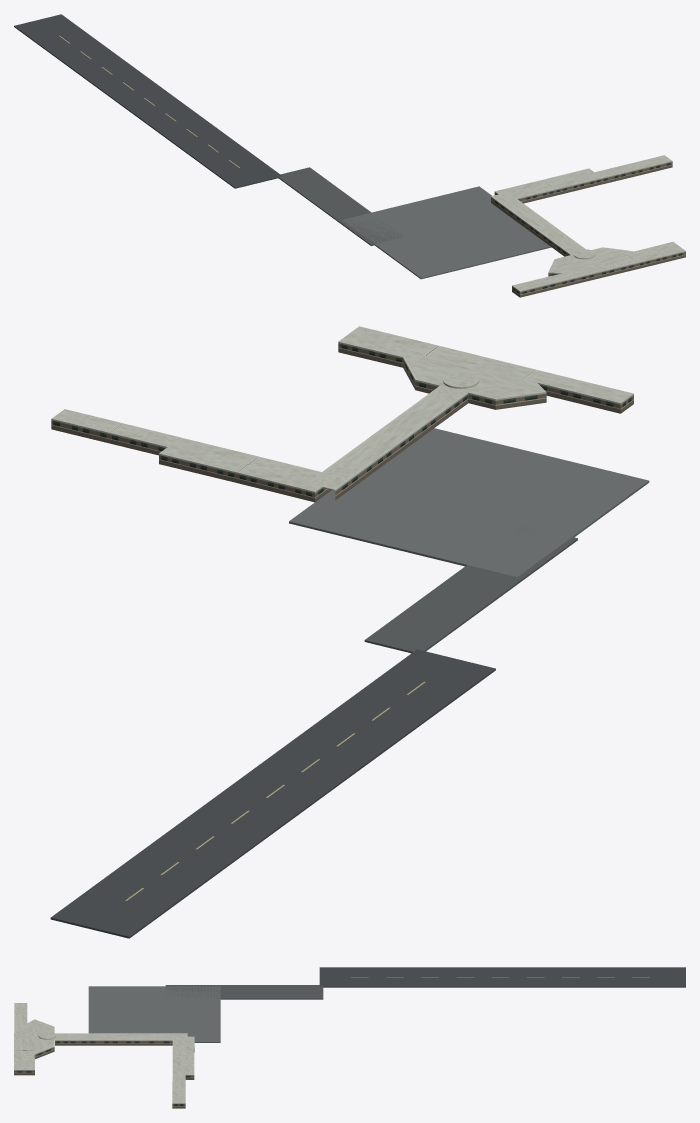
The model's file is dc9-memphis-legacy-departure.glb.
3 renders of one model, top to bottom at view 1: azimuth 30°, elevation 25°; view 2: azimuth 150°, elevation 25°; view 3: azimuth 270°, elevation 25°, orthographic. The views are drawn at different scales.
Parts seen in each view (by area): view 1: KMEM_RUNWAY_SURFACE, KMEM_RAMP, OBJ8_CONCOURSEB_RANGE_001, KMEM_TAXI_SURFACE, OBJ8_CONCOURSEB_2_RANGE_001, OBJ8_CONCOURSEB_2E_RANGE_001; view 2: KMEM_RUNWAY_SURFACE, KMEM_RAMP, OBJ8_CONCOURSEB_RANGE_001, OBJ8_CONCOURSEB_2_RANGE_001, KMEM_TAXI_SURFACE, OBJ8_CONCOURSEB_2E_RANGE_001; view 3: KMEM_RUNWAY_SURFACE, KMEM_RAMP, OBJ8_CONCOURSEB_RANGE_001, KMEM_TAXI_SURFACE, OBJ8_CONCOURSEB_2_RANGE_001, OBJ8_CONCOURSEB_2E_RANGE_001.
Part boxes in pixels (x1,y1,x2,y2): KMEM_RUNWAY_SURFACE: (14, 14, 281, 188); KMEM_RAMP: (342, 186, 551, 279); OBJ8_CONCOURSEB_RANGE_001: (491, 192, 633, 276); KMEM_TAXI_SURFACE: (278, 167, 403, 245); OBJ8_CONCOURSEB_2_RANGE_001: (494, 155, 672, 203); OBJ8_CONCOURSEB_2E_RANGE_001: (512, 242, 685, 297); KMEM_RUNWAY_SURFACE: (50, 649, 495, 938); KMEM_RAMP: (289, 428, 649, 576); OBJ8_CONCOURSEB_RANGE_001: (307, 356, 546, 500); OBJ8_CONCOURSEB_2_RANGE_001: (51, 409, 335, 502); KMEM_TAXI_SURFACE: (364, 525, 577, 653); OBJ8_CONCOURSEB_2E_RANGE_001: (338, 326, 633, 413); KMEM_RUNWAY_SURFACE: (319, 967, 685, 987); KMEM_RAMP: (88, 986, 220, 1042); OBJ8_CONCOURSEB_RANGE_001: (22, 1019, 187, 1059); KMEM_TAXI_SURFACE: (165, 985, 323, 999); OBJ8_CONCOURSEB_2_RANGE_001: (172, 1036, 194, 1108); OBJ8_CONCOURSEB_2E_RANGE_001: (14, 1003, 34, 1075).
Bounding box in the file's own units: 455 × 12.57 × 917.
5 materials, 1 textured.
